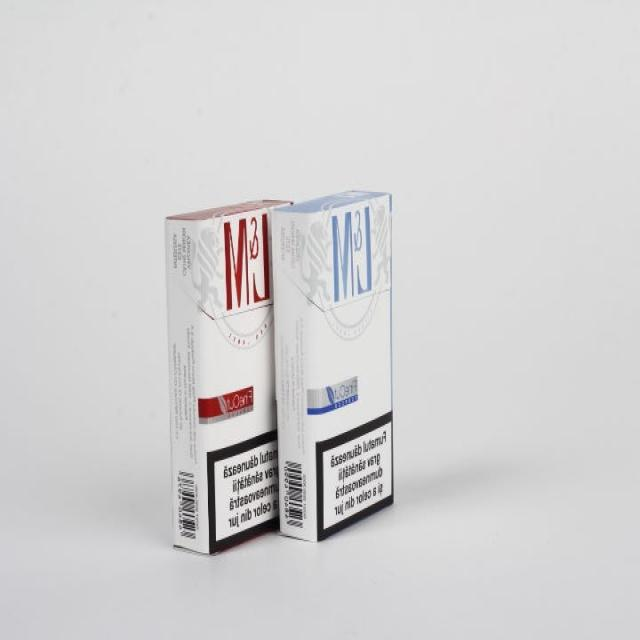lm: (164, 191, 291, 558), (271, 190, 397, 547)
